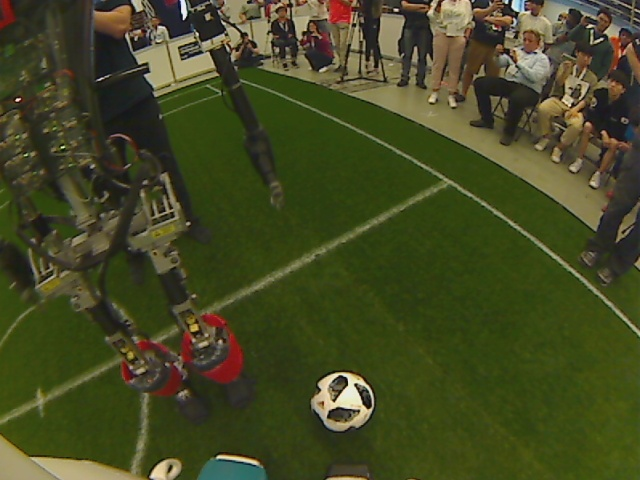ball: (309, 369, 375, 433)
